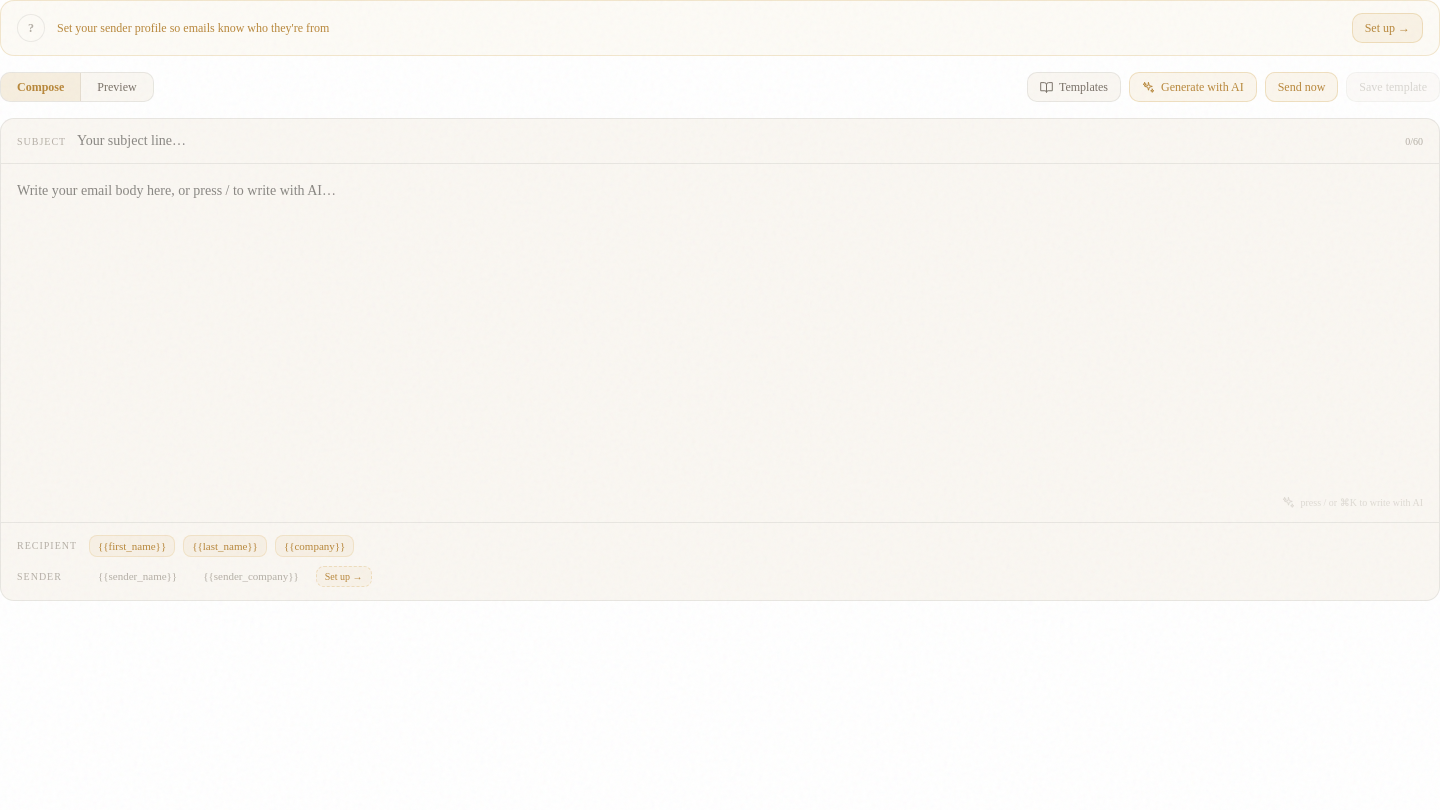
it: EmailComposer › shows error message when save fails
Type "My subject" into the field named "email subject".
click(735, 141); type("My subject")  # box [77,131,1393,151]
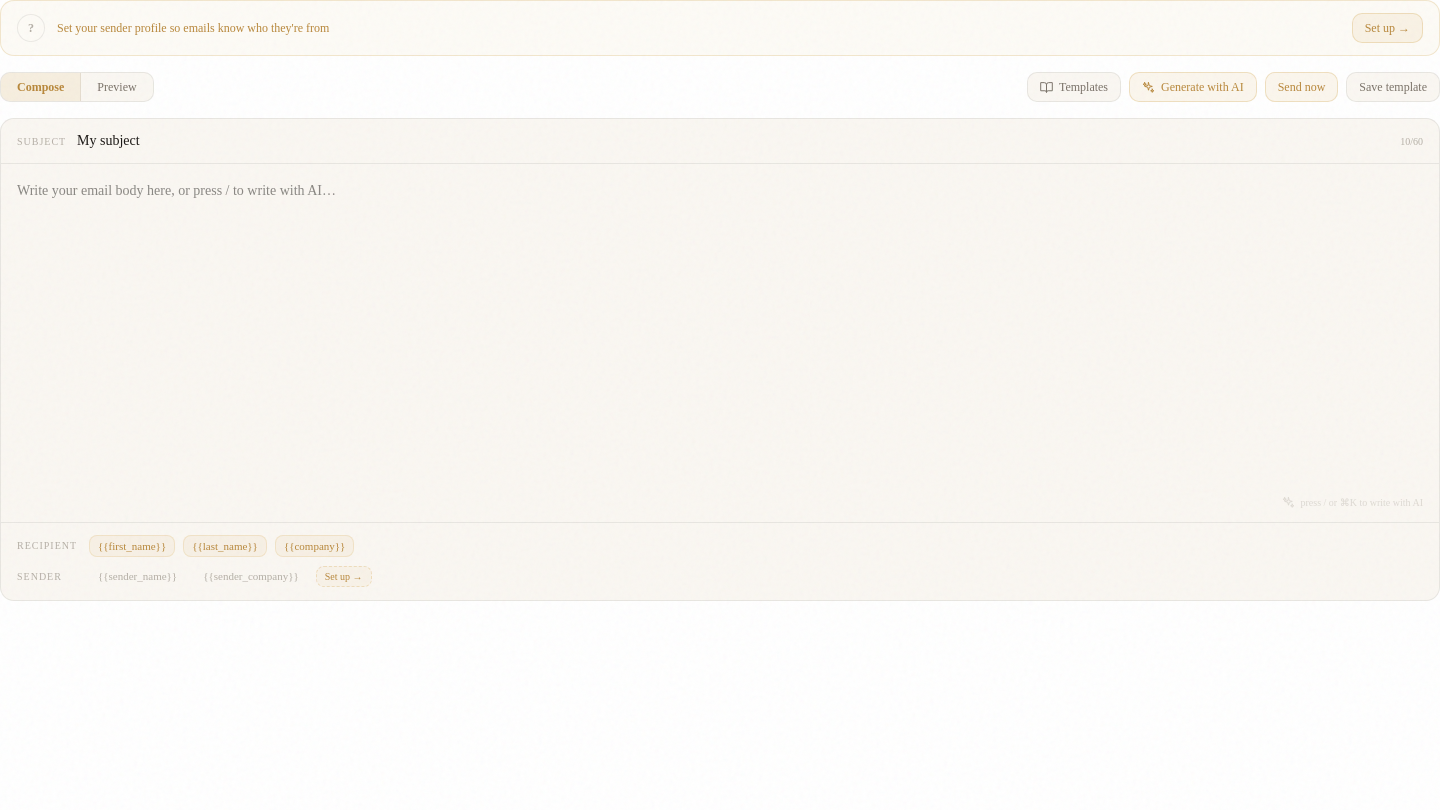
Type "Some body text" into the text box labelled "Write your email body here, or press / to write with AI…".
click(720, 339); type("Some body text")  # box [1,164,1439,514]
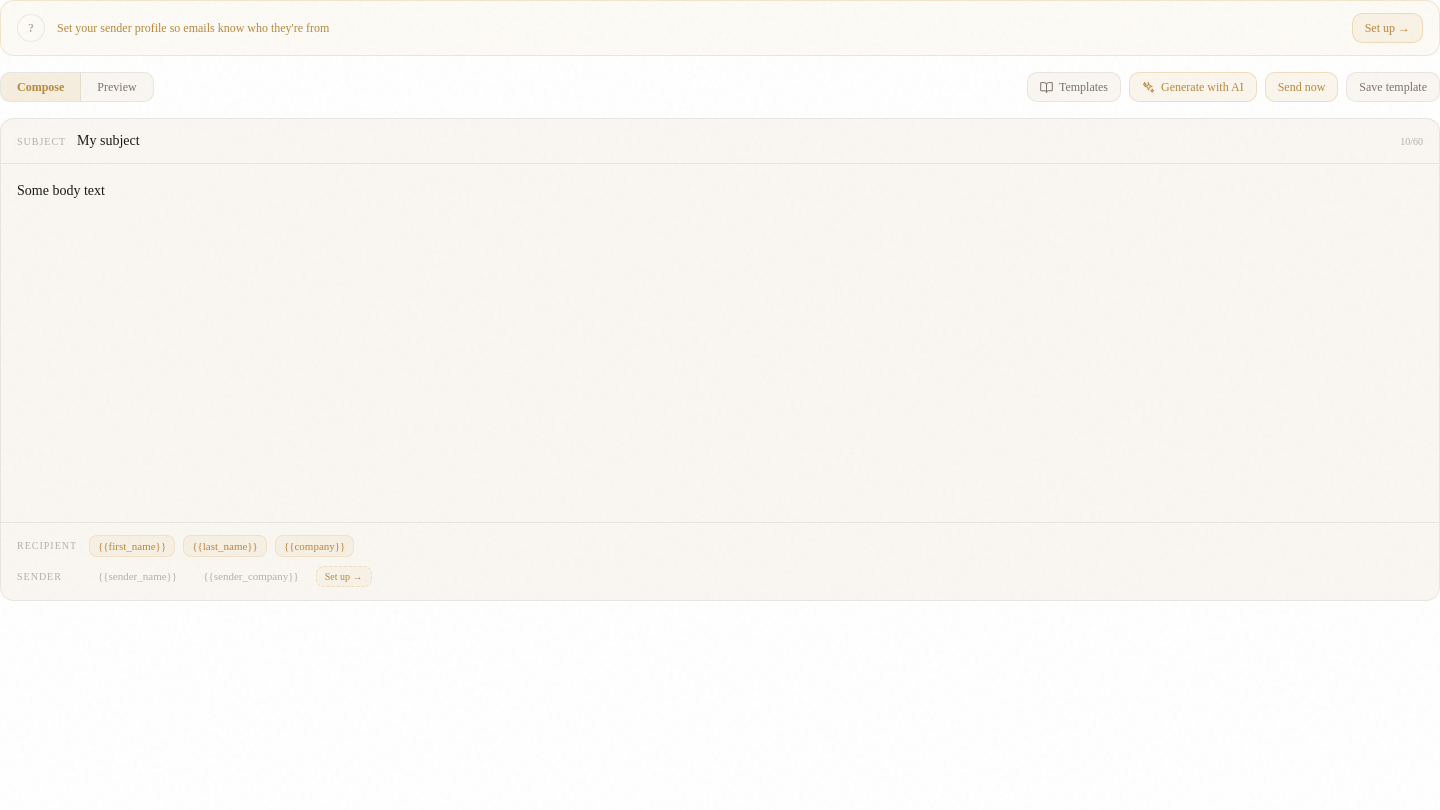
Click the button "Save template".
click(1393, 87)  # box [1346,72,1439,102]
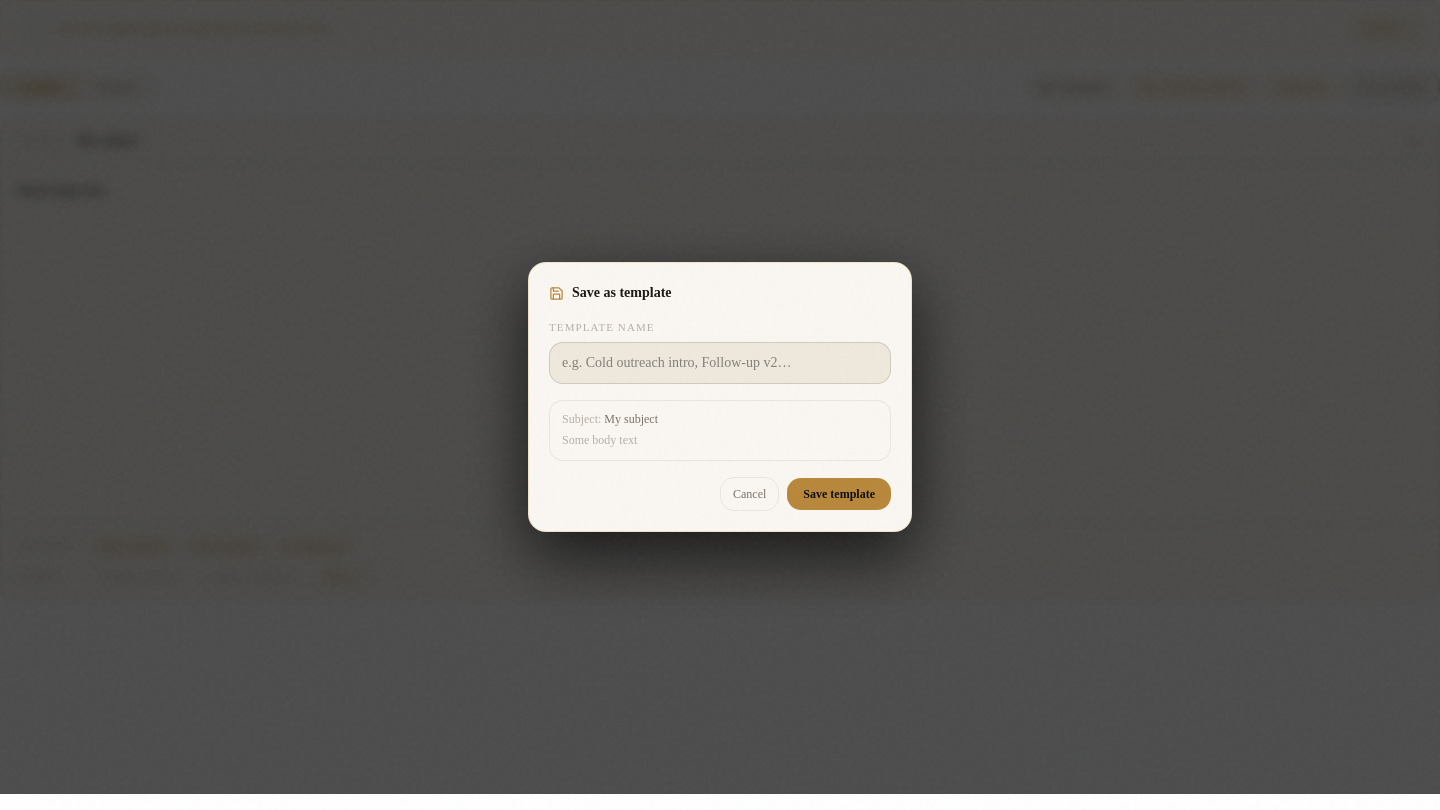
Check: the field named "template name" is shown
Type "My Template" into the field named "template name".
click(720, 362); type("My Template")  # box [549,342,891,384]
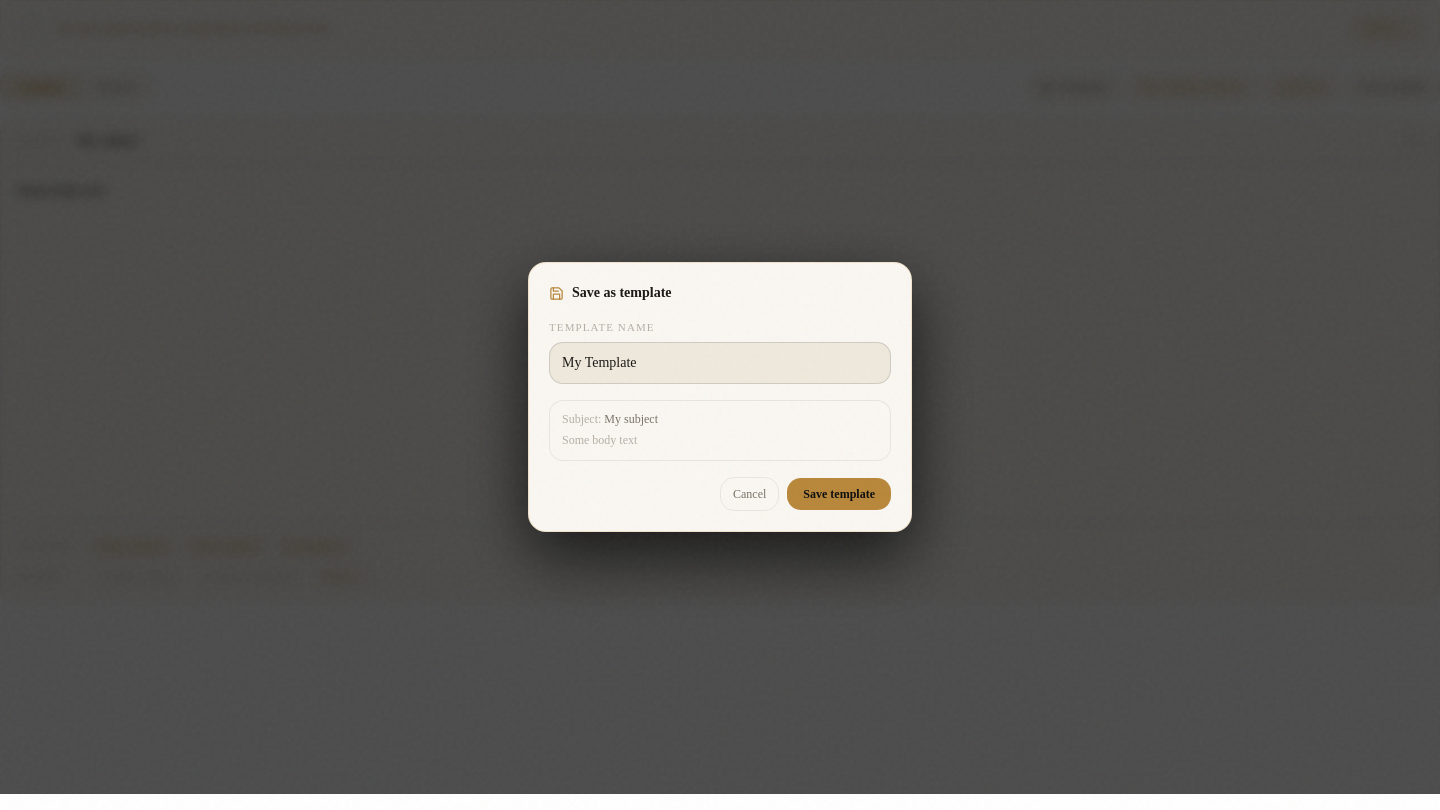
Click the button with aria-label "confirm save template".
click(839, 494)  # box [787,478,891,510]
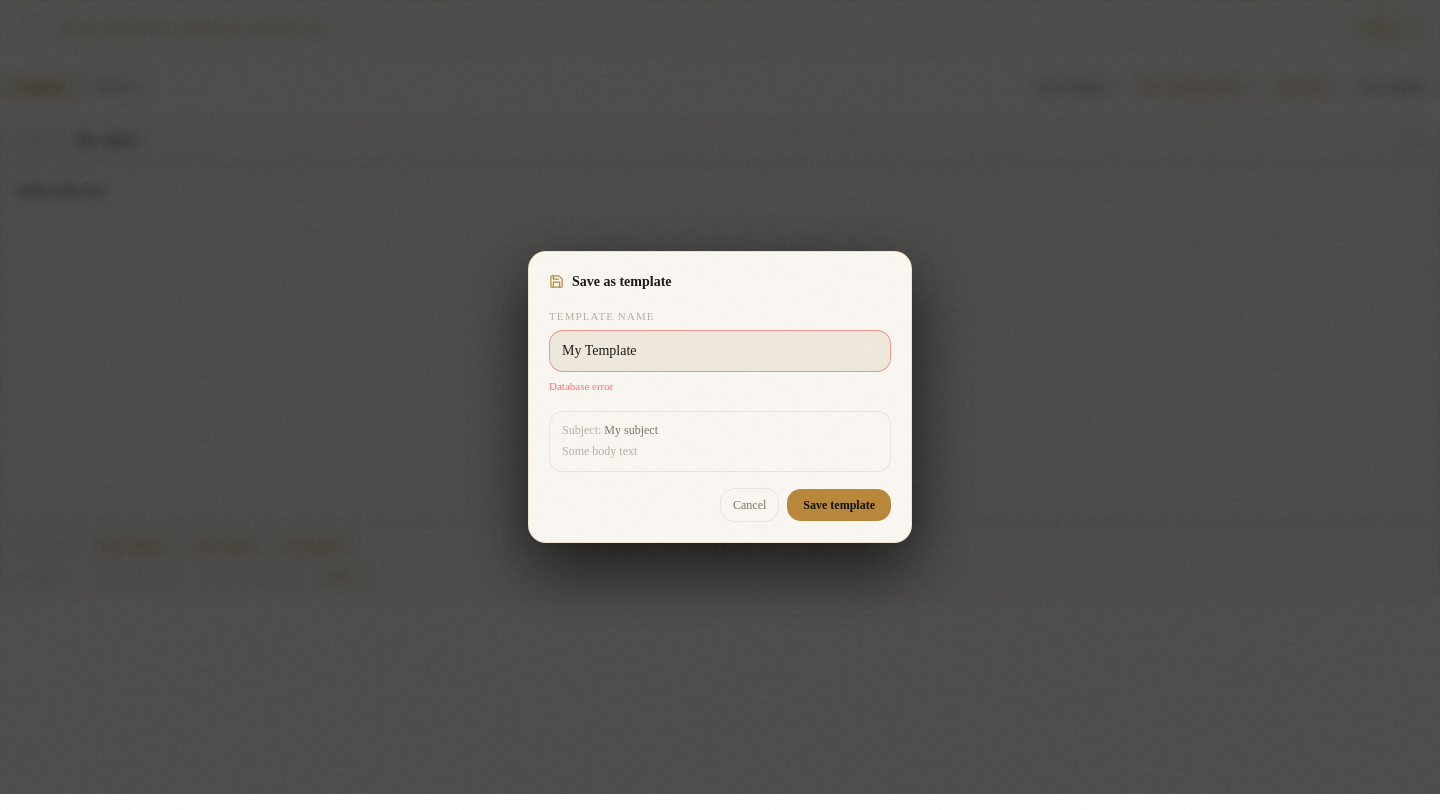
Check: the text "Database error" is shown, box [549,380,613,392]
